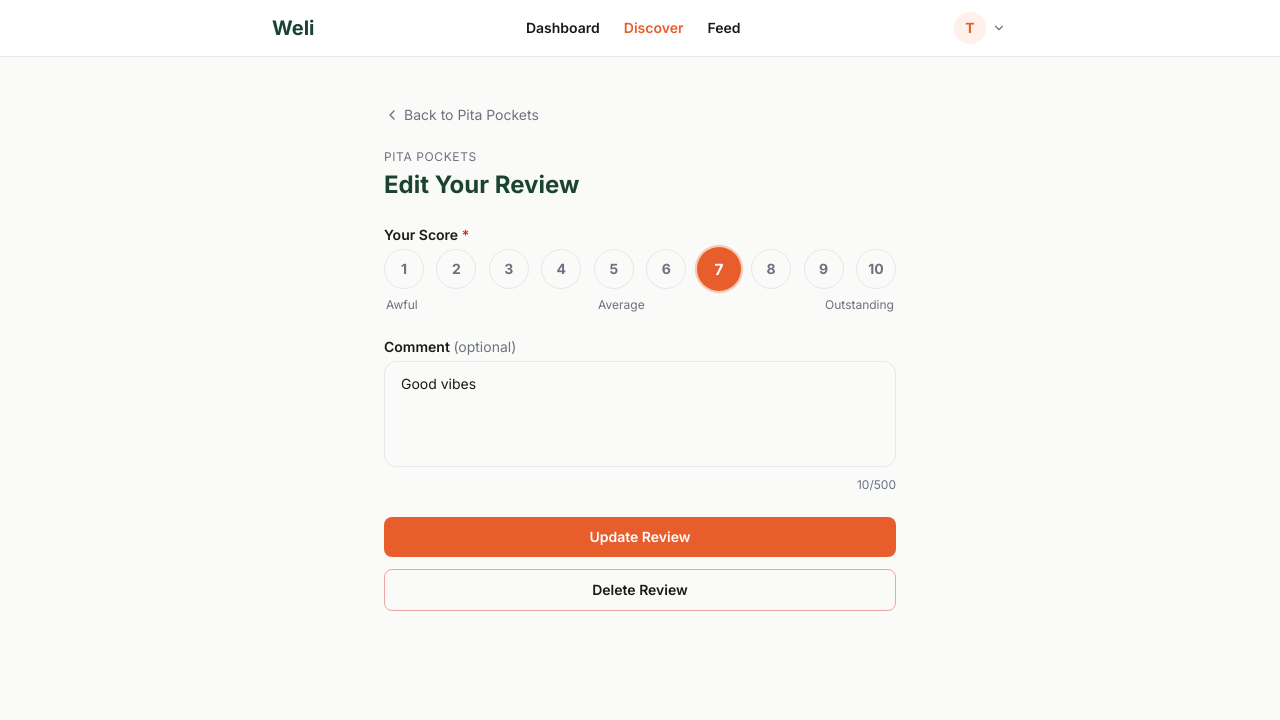
ReviewFormPage — edit mode › closes the modal when cancel is clicked
The width and height of the screenshot is (1280, 720).
Click the button "Delete Review" at point(640, 590), box [384,569,896,611]
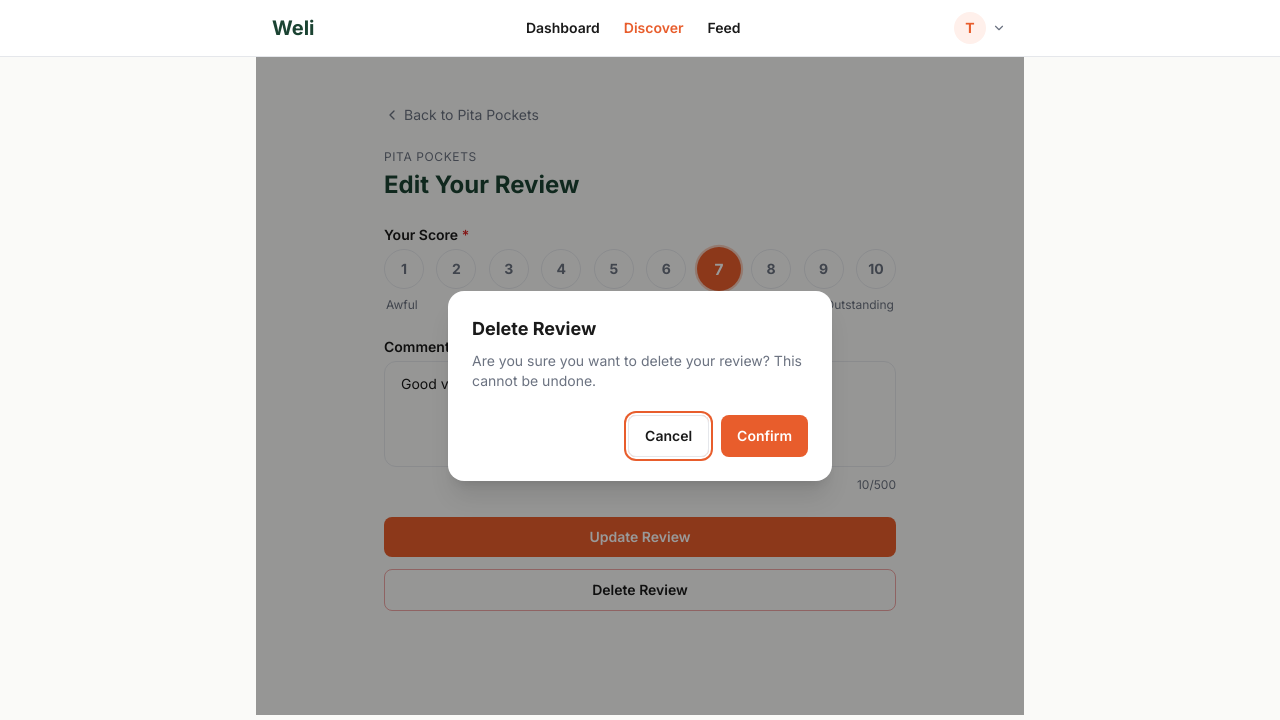
Click the button "Cancel" at point(669, 436), box [628,415,709,457]
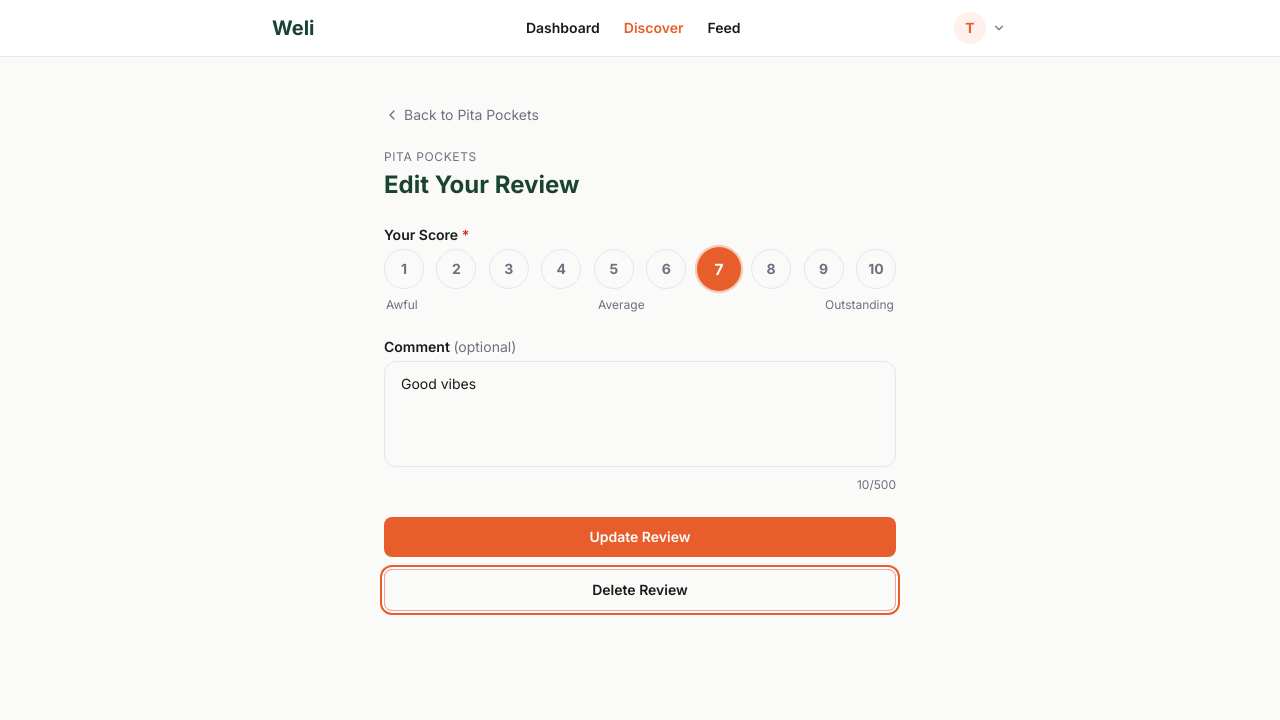
expect the dialog is gone: met
